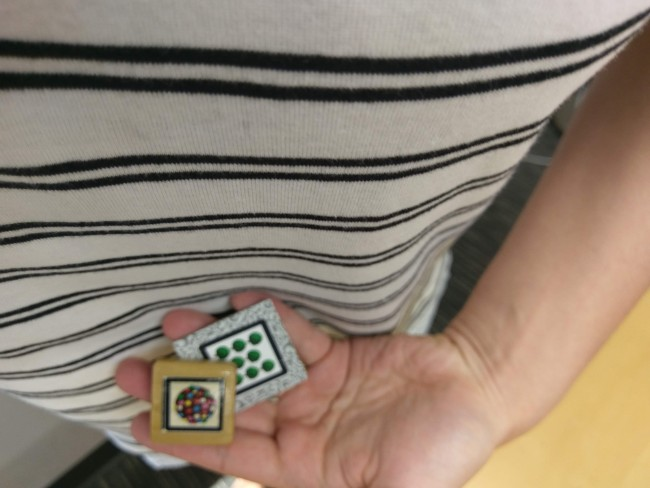cookie: (162, 376, 222, 430)
